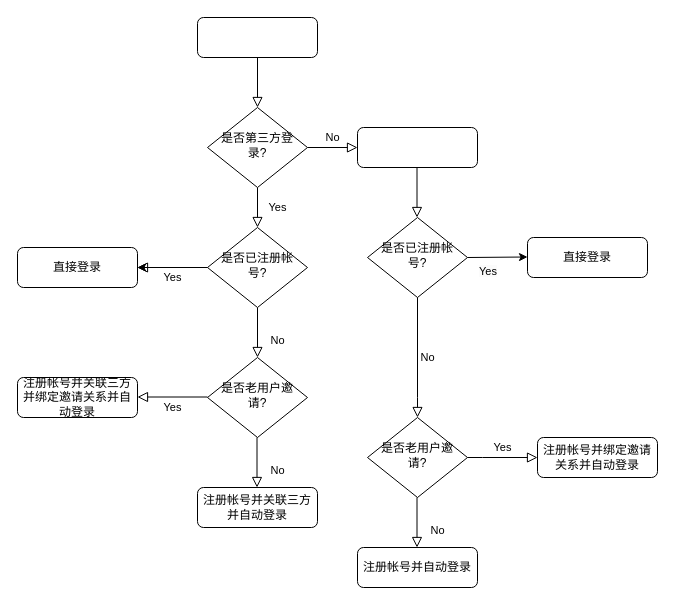
The diagram is 675 pixels wide and 605 high, and some of its shapes have lost their labels. Each missing label, with the centre of its shape:
"手机登录" belongs at (x=417, y=147).
"登录" belongs at (x=257, y=37).
